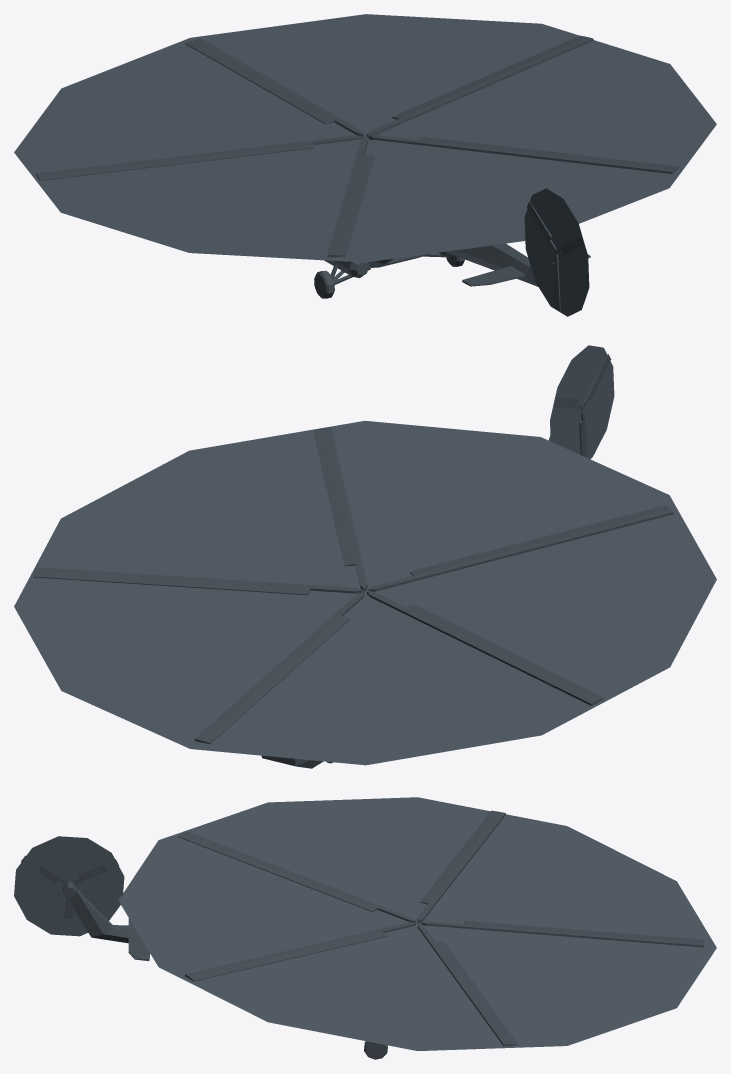
File: Heli-MI17V.glb
3 views of the same model, one above another, from view 1: azimuth 30°, elevation 25°; view 2: azimuth 150°, elevation 25°; view 3: azimuth 270°, elevation 25° (orthographic). The views are drawn at different scales.
Bounding box in the file's own units: 17.75 × 6.55 × 20.77.
